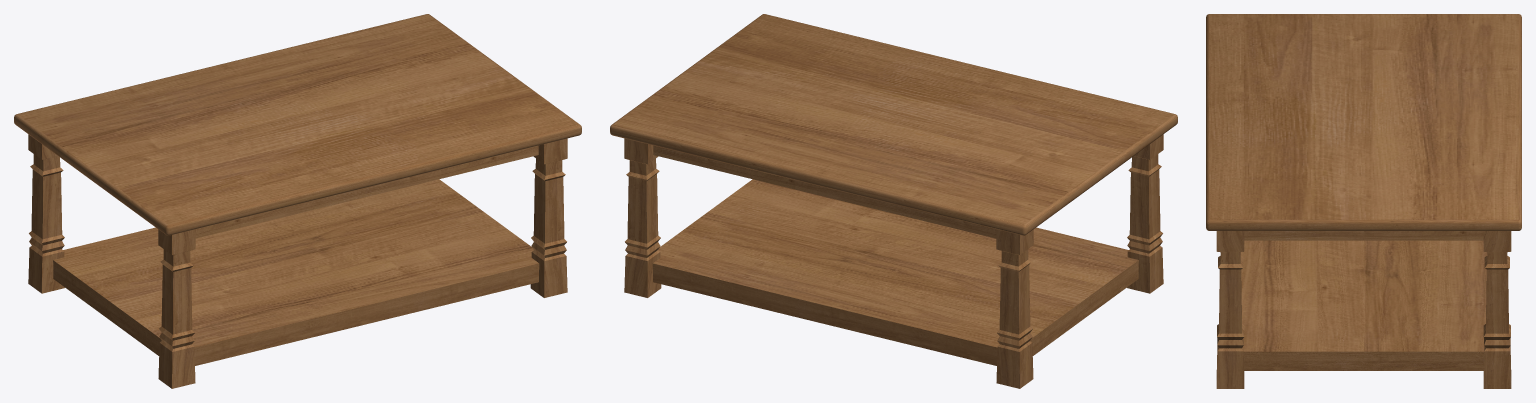
The model's file is Coffee_Table-1 1.fbx.
3 renders of one model, left to right at view 1: azimuth 30°, elevation 25°; view 2: azimuth 150°, elevation 25°; view 3: azimuth 270°, elevation 25°, orthographic. The views are drawn at different scales.
Parts seen in each view (by area): view 1: CoffeeTable_Top, СoffeeTable_Bottom, CoffeeTable_Leg1, CoffeeTable_Leg2, CoffeeTable_Leg3, CoffeeTable_Supports; view 2: CoffeeTable_Top, СoffeeTable_Bottom, CoffeeTable_Leg3, CoffeeTable_Leg4, CoffeeTable_Leg1, CoffeeTable_Supports; view 3: CoffeeTable_Top, СoffeeTable_Bottom, CoffeeTable_Leg2, CoffeeTable_Leg4, CoffeeTable_Supports.
Boxes of the visible parts, left/top/right/bottom form: CoffeeTable_Top: left=14, top=14, right=581, bottom=235; СoffeeTable_Bottom: left=53, top=179, right=539, bottom=365; CoffeeTable_Leg1: left=158, top=229, right=195, bottom=388; CoffeeTable_Leg2: left=530, top=138, right=567, bottom=297; CoffeeTable_Leg3: left=28, top=134, right=64, bottom=293; CoffeeTable_Supports: left=195, top=145, right=538, bottom=238; CoffeeTable_Top: left=610, top=14, right=1177, bottom=235; СoffeeTable_Bottom: left=652, top=179, right=1138, bottom=365; CoffeeTable_Leg3: left=996, top=229, right=1033, bottom=388; CoffeeTable_Leg4: left=624, top=138, right=661, bottom=297; CoffeeTable_Leg1: left=1127, top=134, right=1163, bottom=293; CoffeeTable_Supports: left=653, top=145, right=996, bottom=238; CoffeeTable_Top: left=1206, top=14, right=1521, bottom=230; СoffeeTable_Bottom: left=1240, top=240, right=1487, bottom=370; CoffeeTable_Leg2: left=1216, top=231, right=1244, bottom=388; CoffeeTable_Leg4: left=1483, top=231, right=1511, bottom=388; CoffeeTable_Supports: left=1244, top=231, right=1483, bottom=240.
Size of the model in its own units: 144 by 55.9 by 92.54.
1 material, 1 textured.
